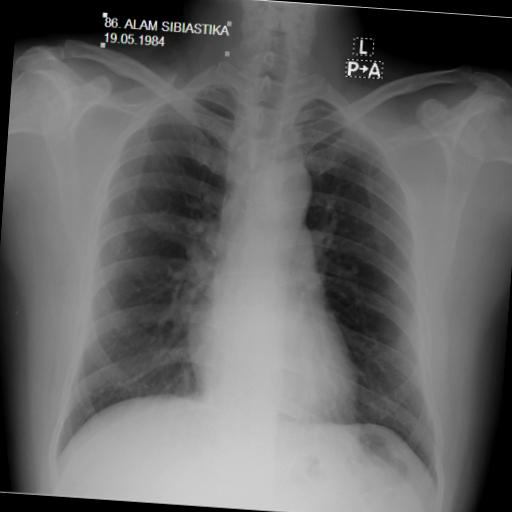normal: (44, 44, 477, 498)
